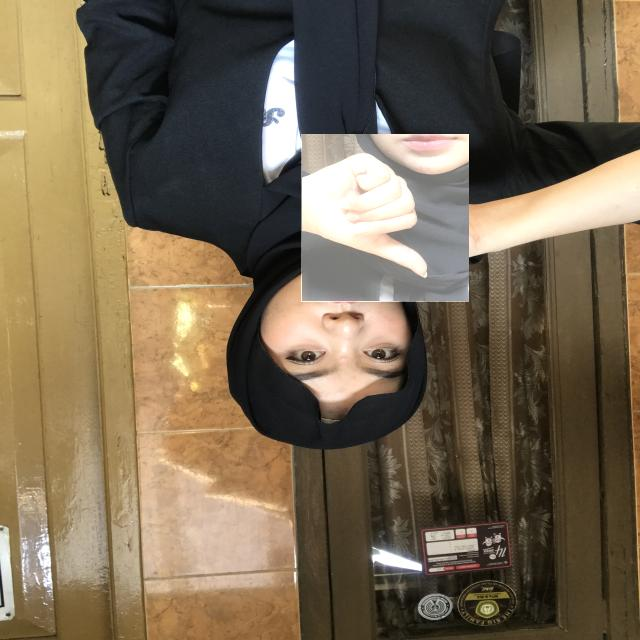sedih: (301, 134, 469, 302)
